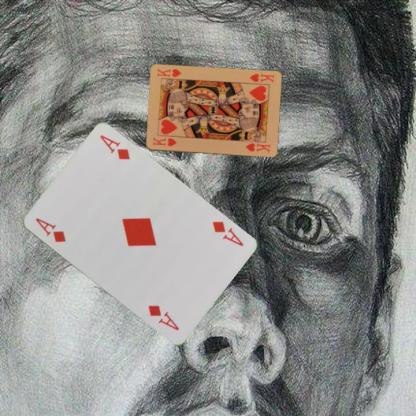Ad: (209, 218, 244, 248), (32, 215, 67, 244)
Kh: (247, 71, 275, 84), (150, 135, 178, 147)
